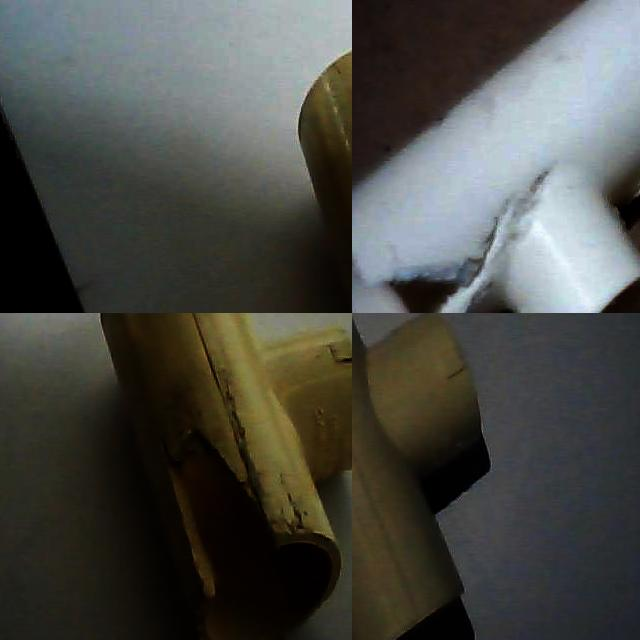Defective: (162, 428, 282, 603), (162, 430, 283, 599), (358, 237, 480, 313), (604, 46, 640, 220)
T Joint: (99, 313, 352, 640), (352, 313, 492, 640)
